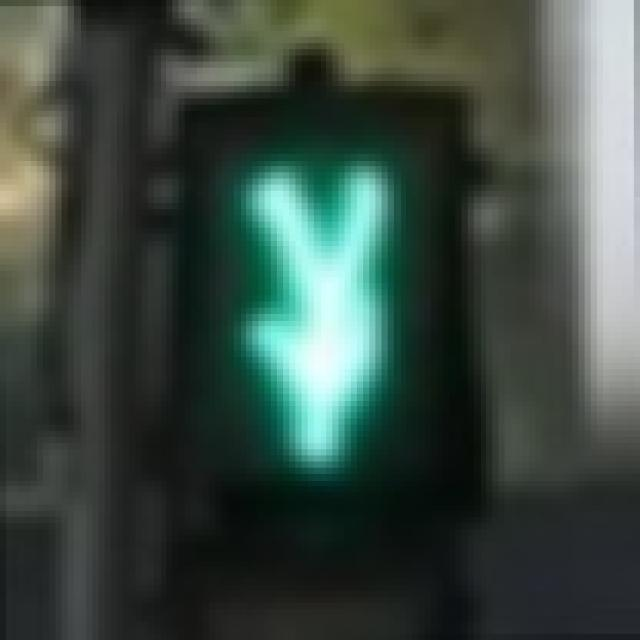geen-crossing: (166, 98, 449, 530)
